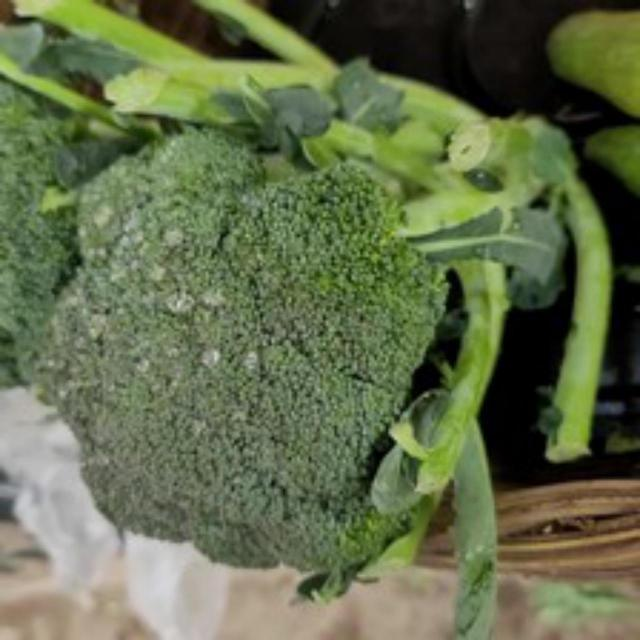broccoli: (39, 126, 480, 575)
